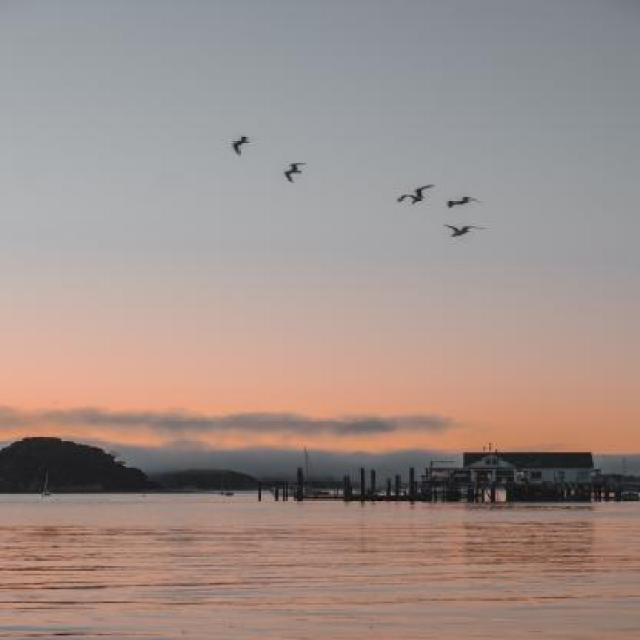bird: (394, 180, 438, 206), (446, 224, 488, 238), (284, 162, 306, 184), (228, 136, 252, 156), (446, 196, 480, 210)
